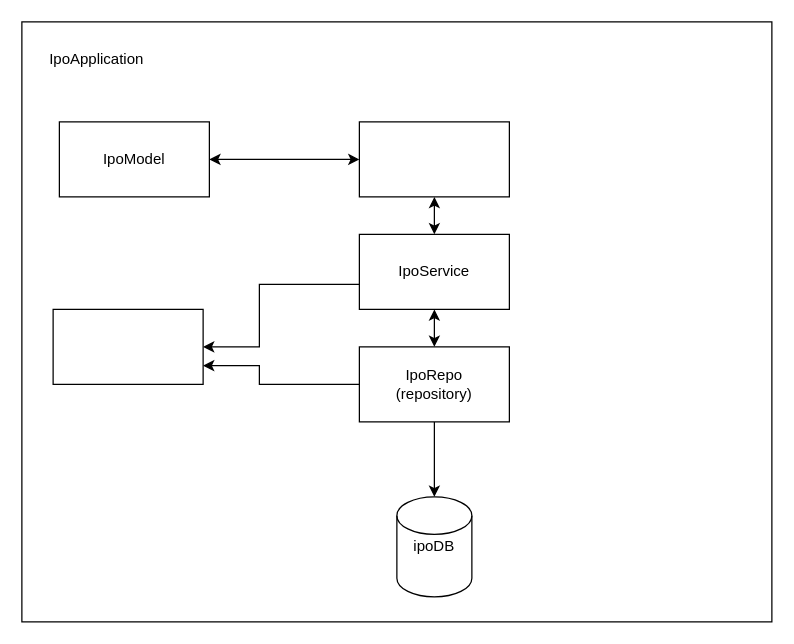
This 794x644 diagram has some shape labels left out. Each missing label, with the box of its shape:
IpoController: (358, 121, 509, 197)
IpoEntity: (52, 308, 203, 384)
